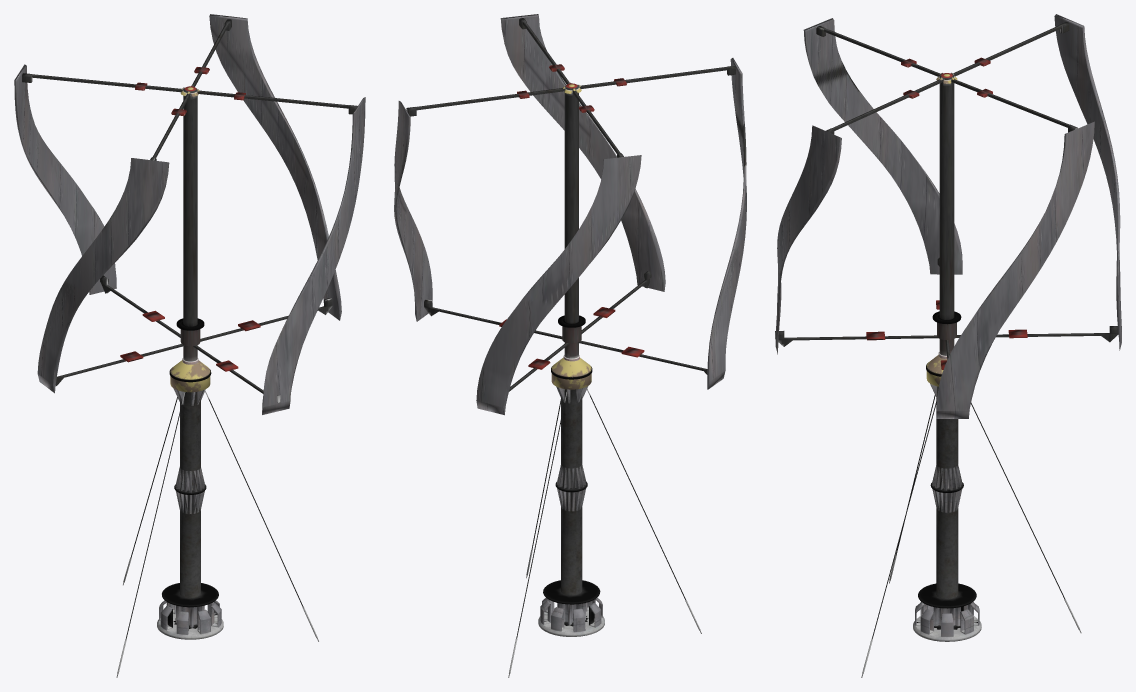
File: WindTurbine.glb
3 renders of one model, left to right at view 1: azimuth 30°, elevation 25°; view 2: azimuth 150°, elevation 25°; view 3: azimuth 270°, elevation 25°, orthographic. The views are drawn at different scales.
Parts seen in each view (by area): view 1: WindTurbine_Baked, WindPilar_Baked; view 2: WindTurbine_Baked, WindPilar_Baked; view 3: WindTurbine_Baked, WindPilar_Baked.
Boxes of the visible parts, x1,y1,x2,y2 form: WindTurbine_Baked: (14, 14, 365, 414); WindPilar_Baked: (116, 360, 318, 677); WindTurbine_Baked: (394, 14, 746, 415); WindPilar_Baked: (508, 357, 701, 677); WindTurbine_Baked: (775, 14, 1121, 418); WindPilar_Baked: (861, 355, 1081, 677).
Bounding box in the file's own units: 13.87 × 24.71 × 13.88.
Materials: 2 (2 with a texture image).
